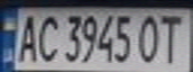3: (60, 11, 81, 63)
4: (97, 11, 118, 63)
5: (112, 11, 139, 63)
9: (78, 11, 100, 63)
A: (12, 11, 42, 63)
C: (33, 11, 60, 63)
O: (133, 11, 166, 64)
T: (154, 11, 190, 64)
